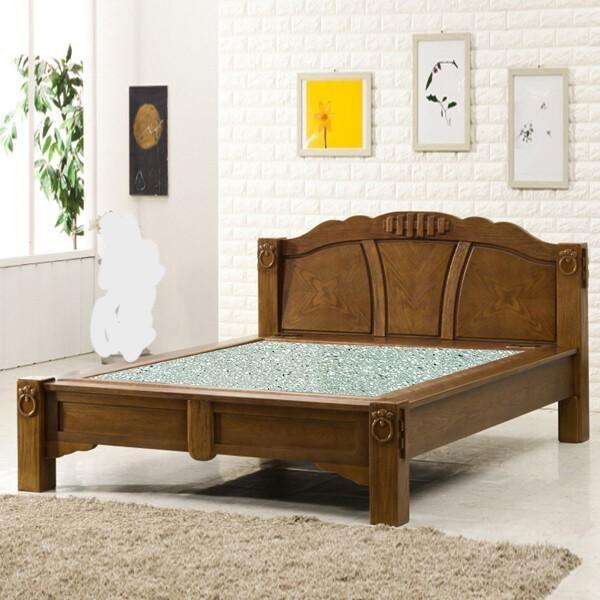Bed-Mattress: (16, 209, 593, 519)
